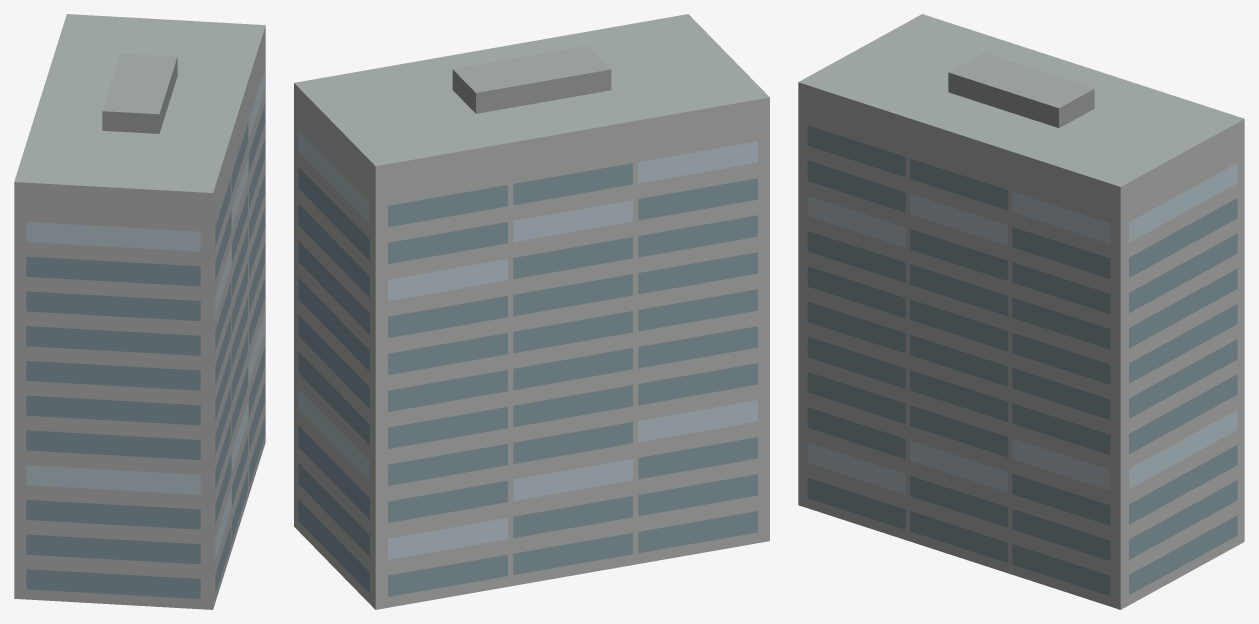
The model's file is apt-a12187901.glb.
3 renders of one model, left to right at view 1: azimuth 30°, elevation 25°; view 2: azimuth 150°, elevation 25°; view 3: azimuth 270°, elevation 25°, orthographic. The views are drawn at different scales.
Visible parts, largest first — view 1: apt-a12187901; view 2: apt-a12187901; view 3: apt-a12187901.
Part boxes in pixels (x1,y1,x2,y2): apt-a12187901: [14, 14, 265, 609]; apt-a12187901: [294, 14, 769, 609]; apt-a12187901: [798, 14, 1244, 609].
Size of the model in its own units: 26.8 by 32 by 29.24.
